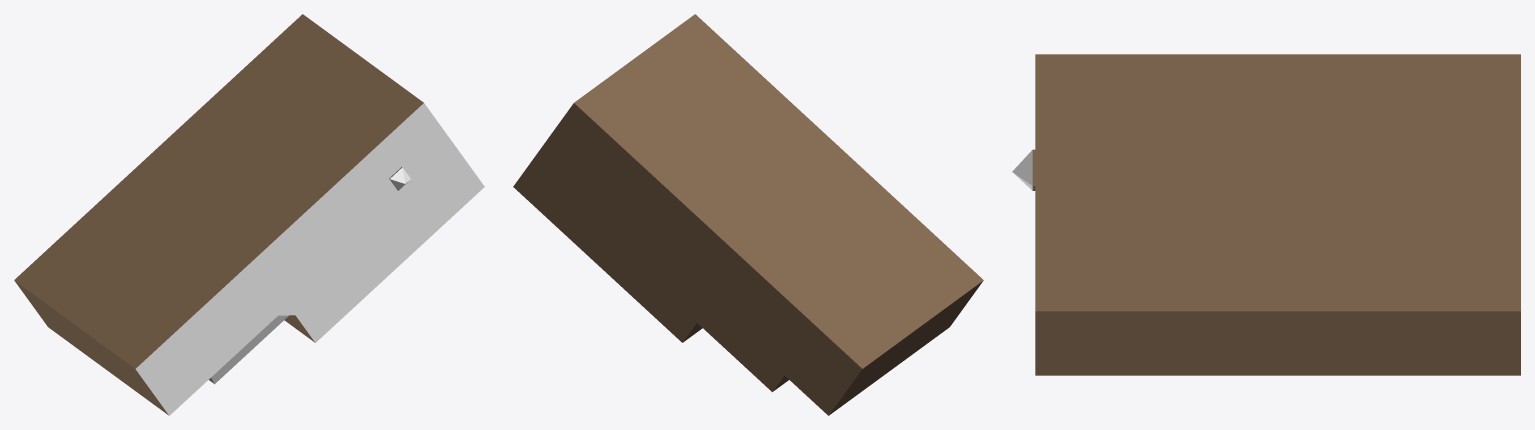
3 views of the same model, side by side, from view 1: azimuth 30°, elevation 25°; view 2: azimuth 150°, elevation 25°; view 3: azimuth 270°, elevation 25° (orthographic). The views are drawn at different scales.
Parts seen in each view (by area): view 1: City_1202580; view 2: City_1202580; view 3: City_1202580.
Part boxes in pixels (x1=…): City_1202580: x1=14, y1=14, x2=484, y2=415; City_1202580: x1=513, y1=14, x2=983, y2=415; City_1202580: x1=1012, y1=54, x2=1520, y2=375.
Bounding box in the file's own units: 2432 × 1669 × 1533.
